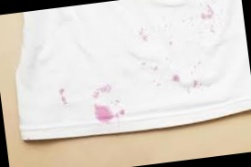wine: (89, 99, 118, 125), (198, 0, 222, 25), (57, 83, 75, 107), (155, 13, 173, 32), (136, 25, 151, 46), (91, 86, 112, 99), (165, 39, 178, 49), (188, 78, 201, 88), (182, 18, 194, 28), (151, 75, 161, 85), (171, 73, 182, 82), (193, 58, 204, 65), (141, 60, 149, 69), (186, 68, 194, 77), (151, 65, 159, 72), (120, 110, 127, 116)
